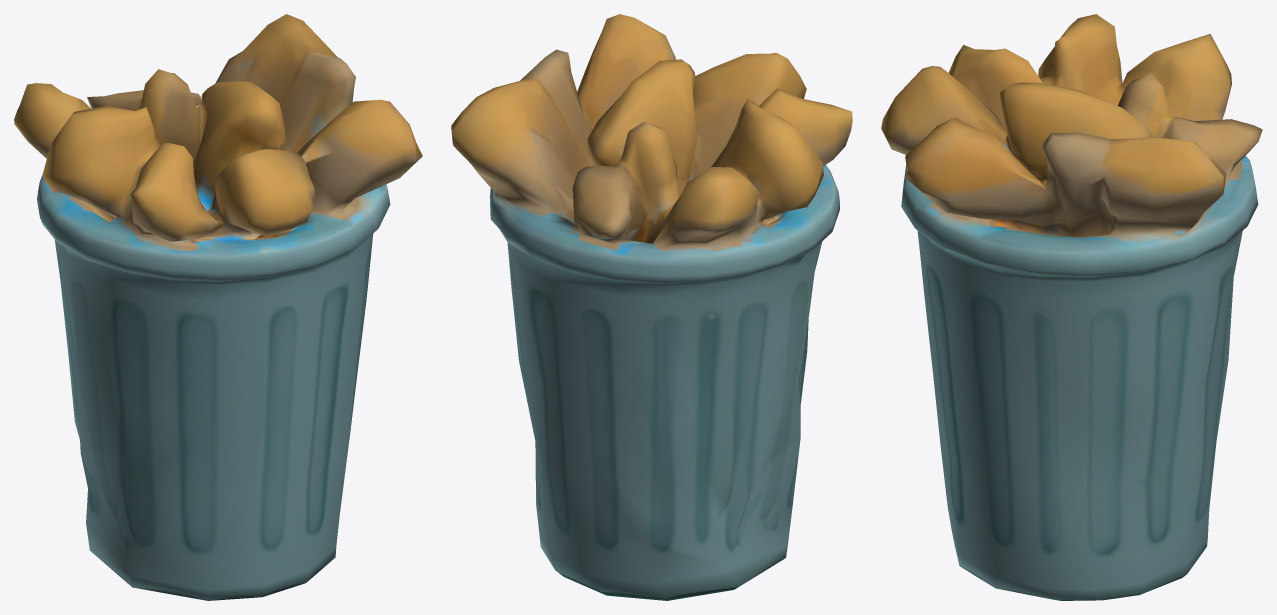
The model's file is 6388689-trash-bin-modern.glb.
3 views of the same model, side by side, from view 1: azimuth 30°, elevation 25°; view 2: azimuth 150°, elevation 25°; view 3: azimuth 270°, elevation 25° (orthographic). The views are drawn at different scales.
Parts seen in each view (by area): view 1: Retopo_neural_node_9f270487-20af-4058-b6ca-0b6ee7572c61; view 2: Retopo_neural_node_9f270487-20af-4058-b6ca-0b6ee7572c61; view 3: Retopo_neural_node_9f270487-20af-4058-b6ca-0b6ee7572c61.
Part boxes in pixels (bbox=[...]): Retopo_neural_node_9f270487-20af-4058-b6ca-0b6ee7572c61: bbox=[14, 14, 422, 600]; Retopo_neural_node_9f270487-20af-4058-b6ca-0b6ee7572c61: bbox=[451, 14, 852, 600]; Retopo_neural_node_9f270487-20af-4058-b6ca-0b6ee7572c61: bbox=[881, 14, 1262, 600].
Size of the model in its own units: 0.6653 by 0.9453 by 0.6809.
1 material, 1 textured.
